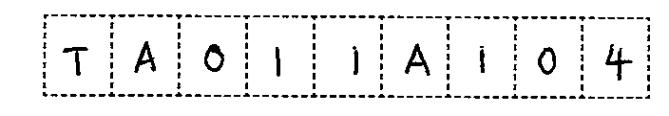0: (198, 37, 231, 80), (532, 41, 560, 82)
1: (263, 40, 295, 83), (468, 39, 496, 79), (340, 41, 368, 80)
4: (597, 40, 638, 87)
A: (126, 34, 165, 80), (398, 39, 438, 80)
T: (55, 38, 97, 81)
